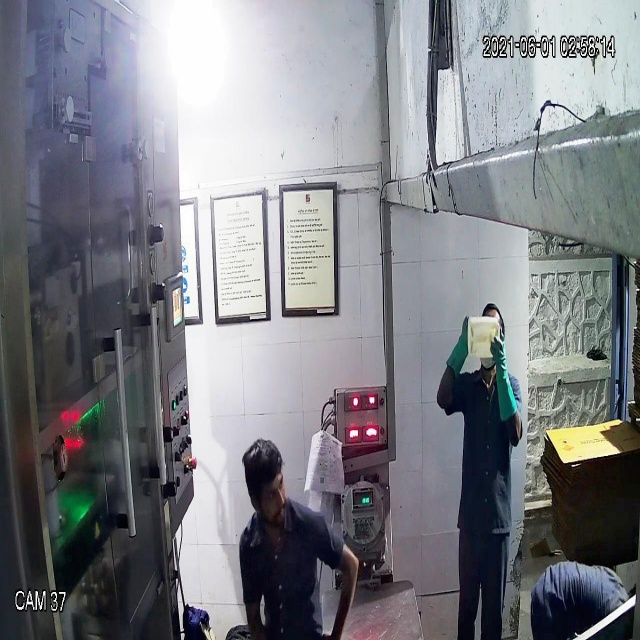Sin_gafas: (242, 476, 289, 513)
